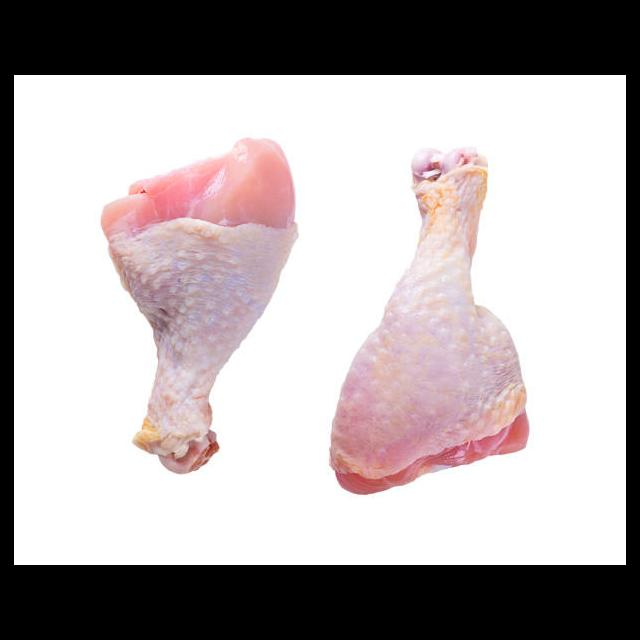chicken: (330, 139, 532, 494), (98, 136, 302, 476)
